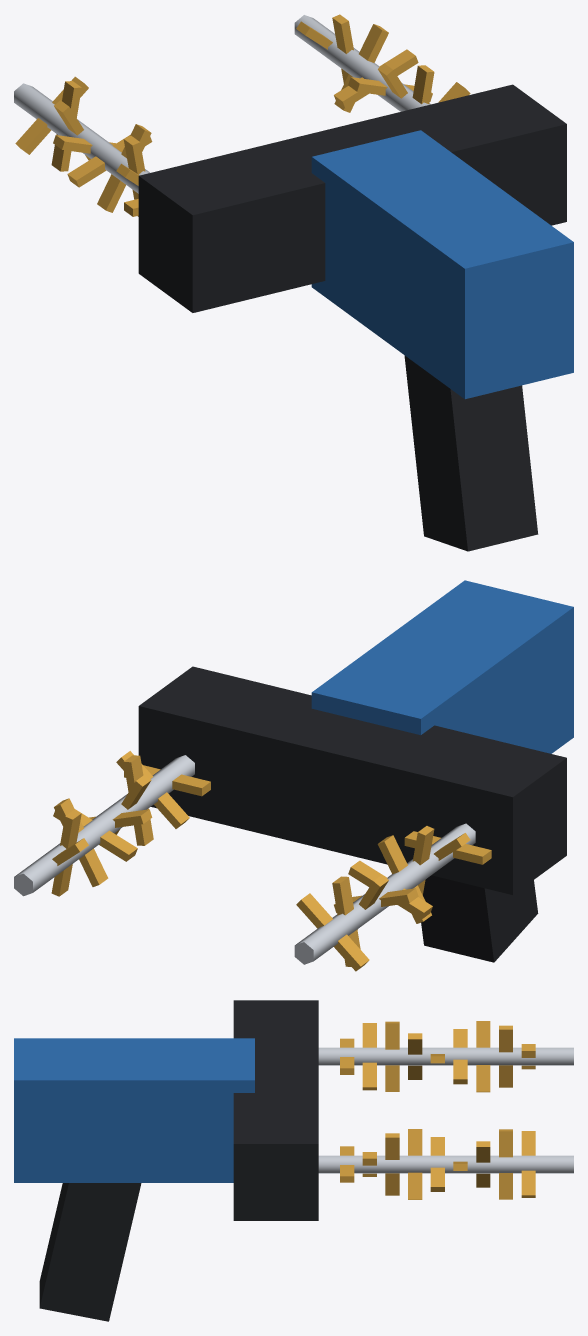
Rendered from tool_twin_auger.glb.
3 views of the same model, one above another, from view 1: azimuth 30°, elevation 25°; view 2: azimuth 150°, elevation 25°; view 3: azimuth 270°, elevation 25° (orthographic). The views are drawn at different scales.
Parts seen in each view (by area): view 1: _MeshInstance3D_1073, _MeshInstance3D_1074, _MeshInstance3D_1072, _MeshInstance3D_1075, _MeshInstance3D_1085, _MeshInstance3D_1079, _MeshInstance3D_1091, _MeshInstance3D_1083, _MeshInstance3D_1084, _MeshInstance3D_1092, _MeshInstance3D_1080; view 2: _MeshInstance3D_1074, _MeshInstance3D_1073, _MeshInstance3D_1072, _MeshInstance3D_1085, _MeshInstance3D_1075, _MeshInstance3D_1084, _MeshInstance3D_1093, _MeshInstance3D_1092, _MeshInstance3D_1080, _MeshInstance3D_1088, _MeshInstance3D_1087, _MeshInstance3D_1079 (+7 smaller); view 3: _MeshInstance3D_1073, _MeshInstance3D_1074, _MeshInstance3D_1072, _MeshInstance3D_1085, _MeshInstance3D_1075, _MeshInstance3D_1078, _MeshInstance3D_1082, _MeshInstance3D_1089, _MeshInstance3D_1077, _MeshInstance3D_1094, _MeshInstance3D_1093, _MeshInstance3D_1088 (+7 smaller).
Boxes of the visible parts, x1,y1,x2,y2 form: _MeshInstance3D_1073: (311, 130, 573, 399); _MeshInstance3D_1074: (138, 84, 566, 312); _MeshInstance3D_1072: (404, 355, 538, 551); _MeshInstance3D_1075: (14, 83, 150, 193); _MeshInstance3D_1085: (294, 15, 430, 111); _MeshInstance3D_1079: (97, 124, 151, 212); _MeshInstance3D_1091: (334, 49, 418, 108); _MeshInstance3D_1083: (51, 81, 81, 171); _MeshInstance3D_1084: (15, 76, 88, 154); _MeshInstance3D_1092: (334, 24, 388, 112); _MeshInstance3D_1080: (67, 135, 152, 187); _MeshInstance3D_1074: (138, 666, 566, 894); _MeshInstance3D_1073: (311, 580, 573, 753); _MeshInstance3D_1072: (421, 875, 538, 962); _MeshInstance3D_1085: (14, 755, 194, 896); _MeshInstance3D_1075: (294, 823, 475, 964); _MeshInstance3D_1084: (296, 893, 369, 971); _MeshInstance3D_1093: (51, 810, 81, 896); _MeshInstance3D_1092: (54, 798, 108, 886); _MeshInstance3D_1080: (348, 860, 432, 919); _MeshInstance3D_1088: (123, 755, 153, 845); _MeshInstance3D_1087: (116, 751, 189, 828); _MeshInstance3D_1079: (377, 835, 431, 923); _MeshInstance3D_1073: (14, 1038, 254, 1182); _MeshInstance3D_1074: (233, 1000, 318, 1220); _MeshInstance3D_1072: (39, 1183, 141, 1321); _MeshInstance3D_1085: (318, 1155, 573, 1173); _MeshInstance3D_1075: (318, 1047, 573, 1065); _MeshInstance3D_1078: (385, 1021, 399, 1091); _MeshInstance3D_1082: (476, 1021, 490, 1092); _MeshInstance3D_1089: (408, 1129, 422, 1199); _MeshInstance3D_1077: (362, 1023, 376, 1090); _MeshInstance3D_1094: (521, 1131, 535, 1197); _MeshInstance3D_1093: (499, 1129, 512, 1199); _MeshInstance3D_1088: (385, 1133, 399, 1195).
Bounding box in the file's own units: 0.24 × 0.1939 × 0.395.
